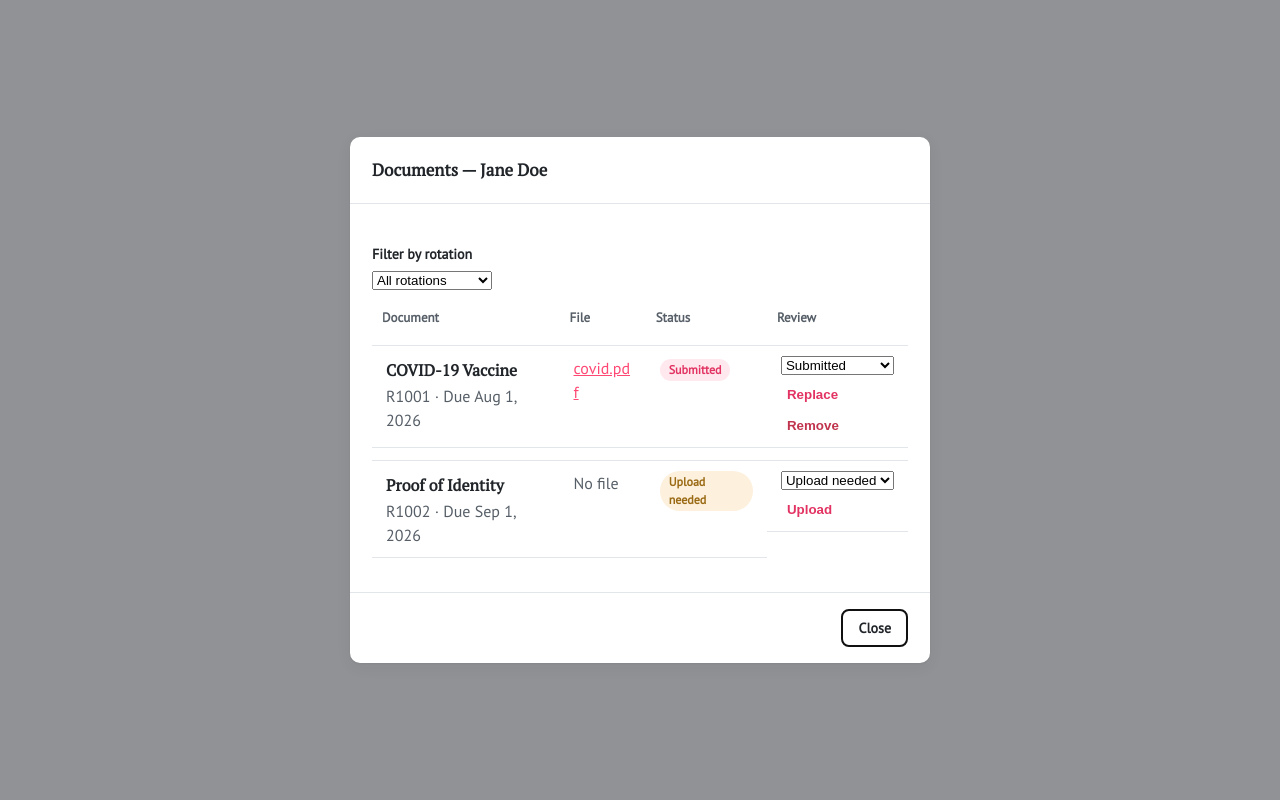
Test: StudentDocumentsModal › filters the table by rotation number
Expected: the text "COVID-19 Vaccine" is shown, x1=386 y1=359 x2=517 y2=381
Select "R1002" in the dropdown labelled "Filter by rotation" at [432, 280], box x1=372 y1=270 x2=492 y2=290
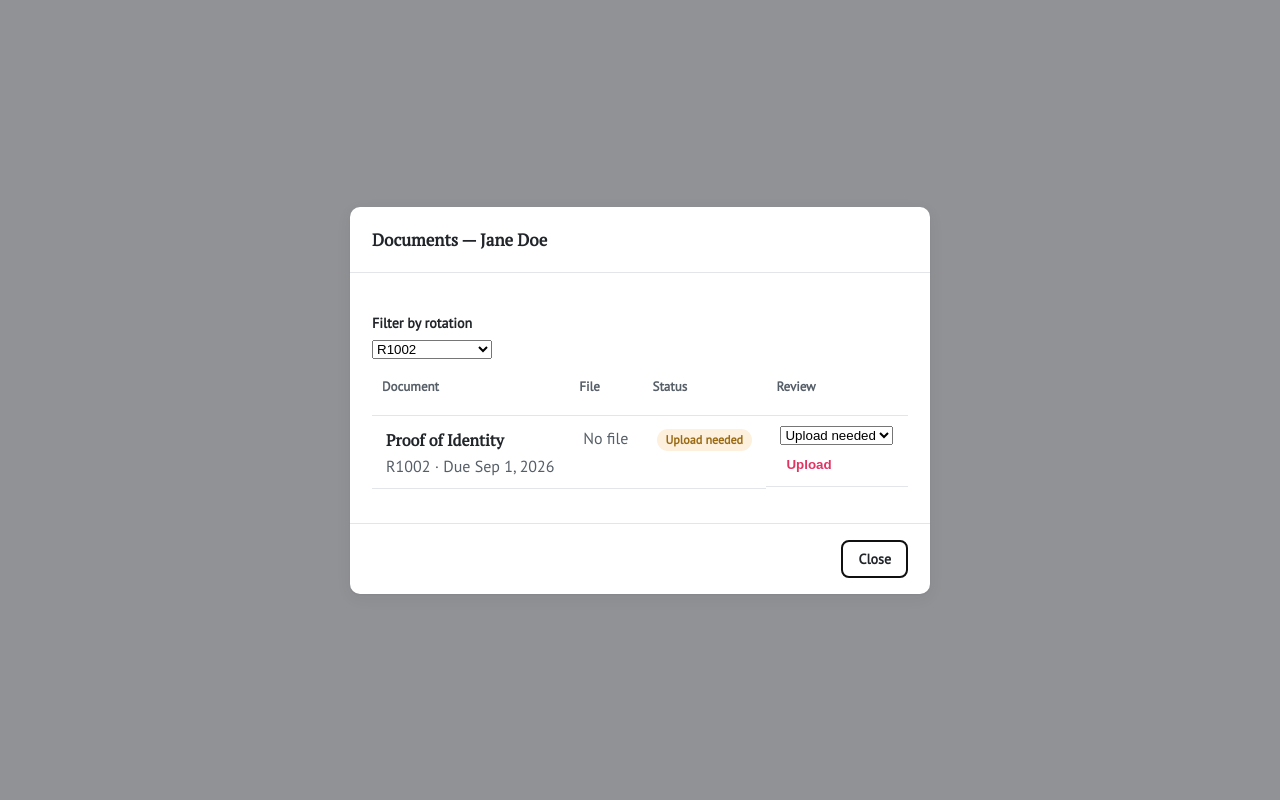
Expected: the text "Proof of Identity" is shown, x1=386 y1=428 x2=504 y2=450
Now the text "COVID-19 Vaccine" is gone
